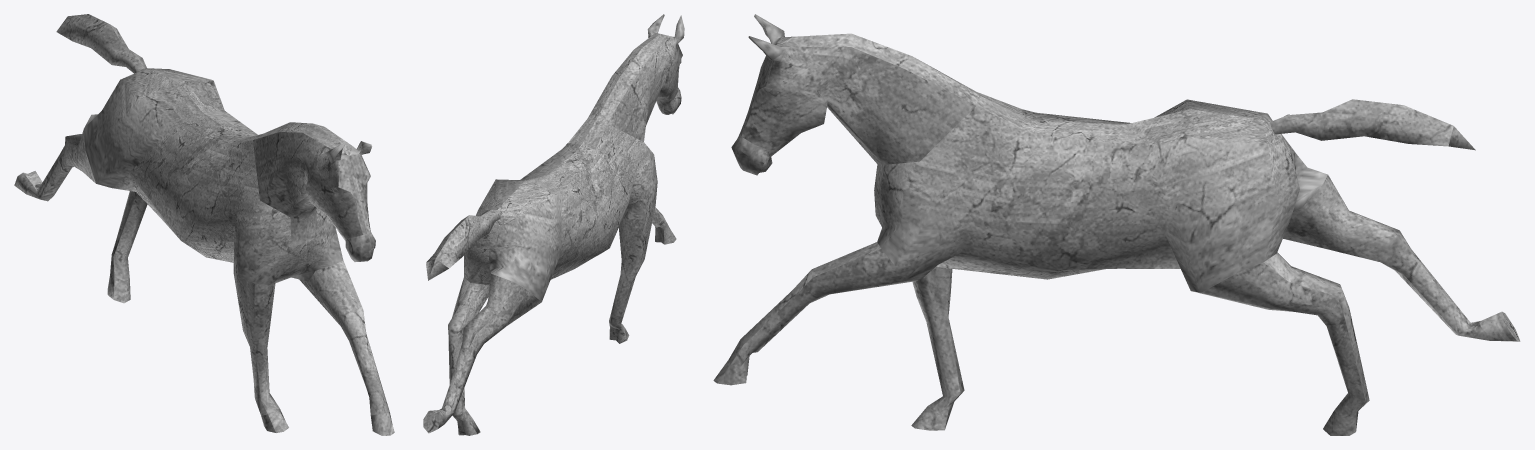
Rendered from horse_stone_light.glb.
3 views of the same model, side by side, from view 1: azimuth 30°, elevation 25°; view 2: azimuth 150°, elevation 25°; view 3: azimuth 270°, elevation 25° (orthographic). The views are drawn at different scales.
Parts seen in each view (by area): view 1: Mesh_0; view 2: Mesh_0; view 3: Mesh_0.
Part boxes in pixels (x1,y1,x2,y2): Mesh_0: (14,14,394,435); Mesh_0: (423,14,684,435); Mesh_0: (713,14,1520,435).
Size of the model in its own units: 11.67 by 34.83 by 61.57.
Materials: 1 (1 with a texture image).
